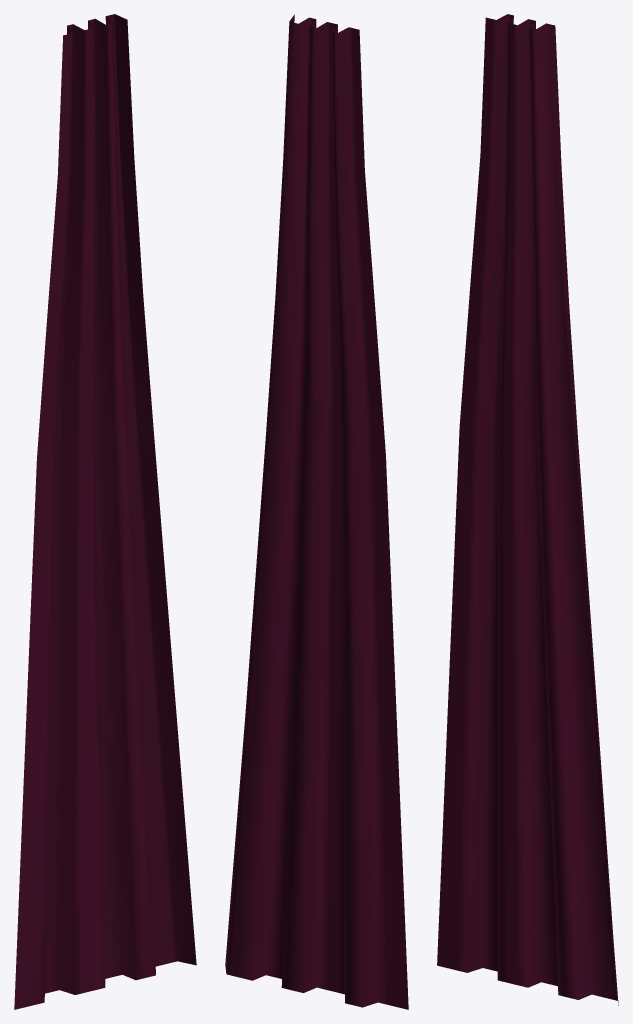
The model's file is Curtain_SidePiece.fbx.
The picture shows the model from 3 angles, left to right: view 1: azimuth 30°, elevation 25°; view 2: azimuth 150°, elevation 25°; view 3: azimuth 330°, elevation 25°; orthographic projection.
Parts seen in each view (by area): view 1: CurtainSidePiece; view 2: CurtainSidePiece; view 3: CurtainSidePiece.
Boxes of the visible parts, left/top/right/bottom form: CurtainSidePiece: left=14, top=14, right=196, bottom=1009; CurtainSidePiece: left=225, top=14, right=408, bottom=1009; CurtainSidePiece: left=437, top=14, right=618, bottom=1005.
Size of the model in its own units: 52.93 by 267 by 4.54.
